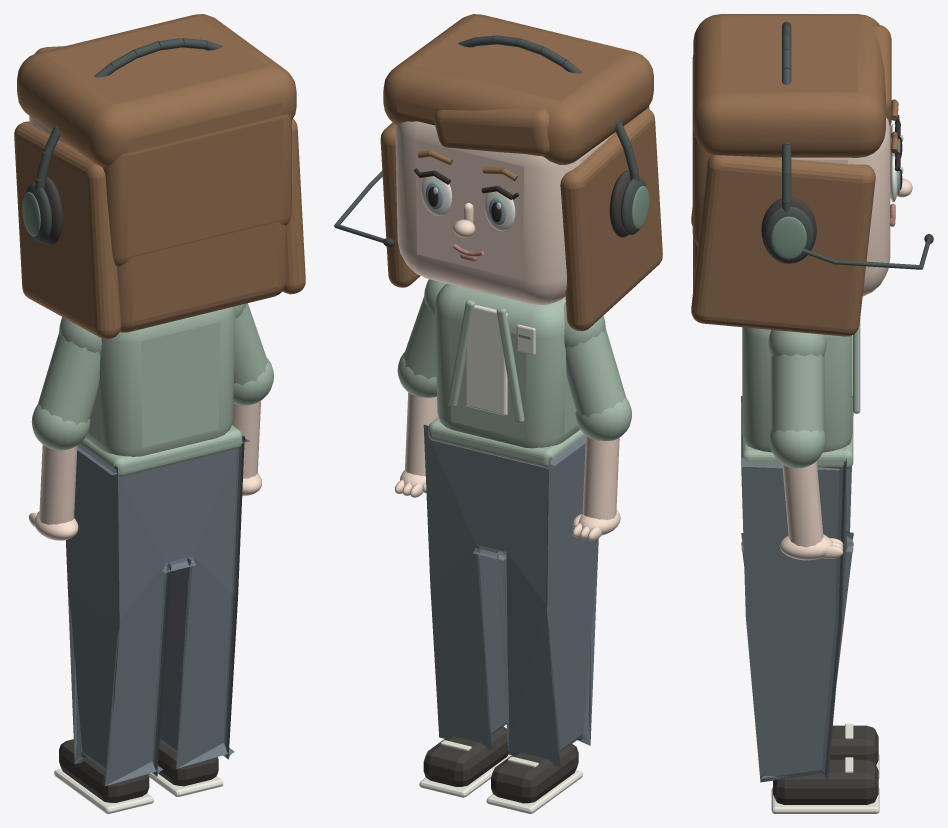
The model's file is person-standing-2.glb.
The picture shows the model from 3 angles, left to right: view 1: azimuth 30°, elevation 25°; view 2: azimuth 150°, elevation 25°; view 3: azimuth 270°, elevation 25°; orthographic projection. The views are drawn at different scales.
Parts seen in each view (by area): view 1: Head.005, Tailored trousers, person-standing-2 Shirt, person-standing-2 Shoes, ForearmL.005, person-standing-2 Warm porcelain, ForearmR.005; view 2: Head.005, Tailored trousers, person-standing-2 Shirt, person-standing-2 Warm porcelain, person-standing-2 Shoes, ForearmL.005, ForearmR.005; view 3: Head.005, Tailored trousers, person-standing-2 Shirt, person-standing-2 Shoes, ForearmR.005, person-standing-2 Warm porcelain.
Part boxes in pixels (bbox=[...]): Head.005: bbox=[14, 14, 305, 339]; Tailored trousers: bbox=[66, 435, 249, 786]; person-standing-2 Shirt: bbox=[31, 303, 273, 477]; person-standing-2 Shoes: bbox=[59, 739, 218, 802]; ForearmL.005: bbox=[29, 445, 78, 540]; person-standing-2 Warm porcelain: bbox=[54, 768, 223, 813]; ForearmR.005: bbox=[232, 401, 261, 495]; Head.005: bbox=[334, 14, 662, 331]; Tailored trousers: bbox=[423, 424, 598, 766]; person-standing-2 Shirt: bbox=[397, 279, 631, 468]; person-standing-2 Warm porcelain: bbox=[419, 305, 582, 813]; person-standing-2 Shoes: bbox=[423, 726, 578, 803]; ForearmL.005: bbox=[572, 436, 620, 540]; ForearmR.005: bbox=[395, 393, 438, 497]; Head.005: bbox=[691, 14, 933, 336]; Tailored trousers: bbox=[741, 396, 853, 784]; person-standing-2 Shirt: bbox=[741, 319, 860, 468]; person-standing-2 Shoes: bbox=[773, 725, 878, 804]; ForearmR.005: bbox=[779, 461, 843, 560]; person-standing-2 Warm porcelain: bbox=[771, 723, 879, 813].
Size of the model in its own units: 0.636 by 1.77 by 0.5163.
